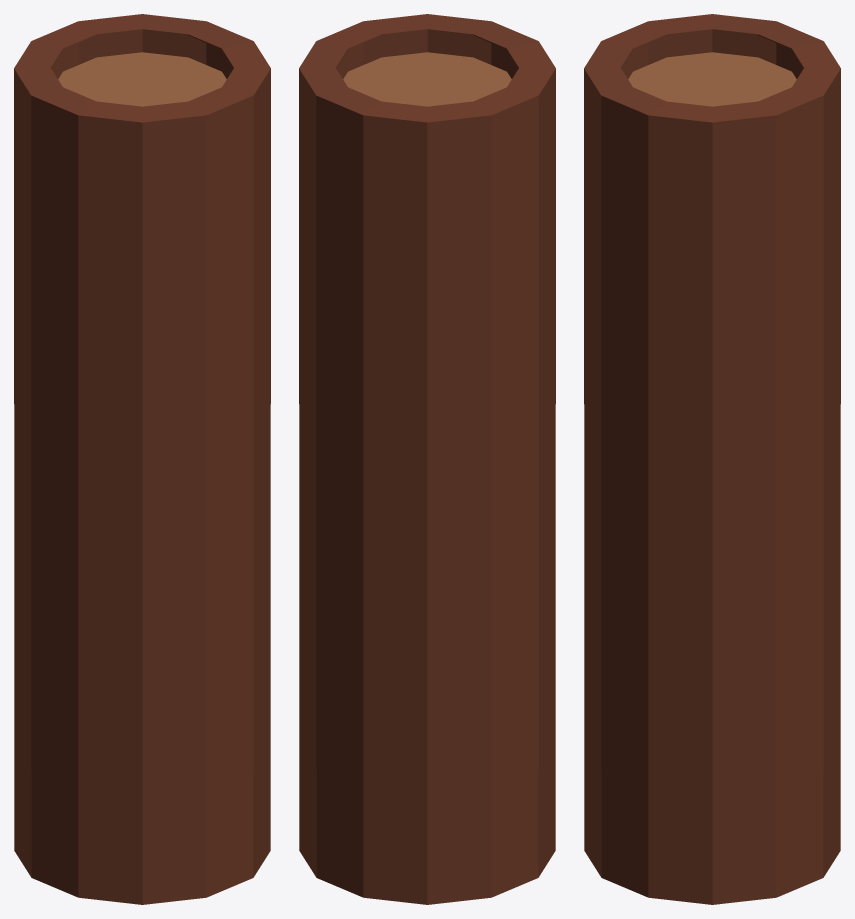
The model's file is LogDrop.fbx.
3 renders of one model, left to right at view 1: azimuth 30°, elevation 25°; view 2: azimuth 150°, elevation 25°; view 3: azimuth 270°, elevation 25°, orthographic.
Visible parts, largest first — view 1: Circle; view 2: Circle; view 3: Circle.
Part boxes in pixels (x1,y1,x2,y2): Circle: [14, 14, 270, 904]; Circle: [299, 14, 555, 904]; Circle: [584, 14, 840, 904].
Bounding box in the file's own units: 202 × 678 × 202.
